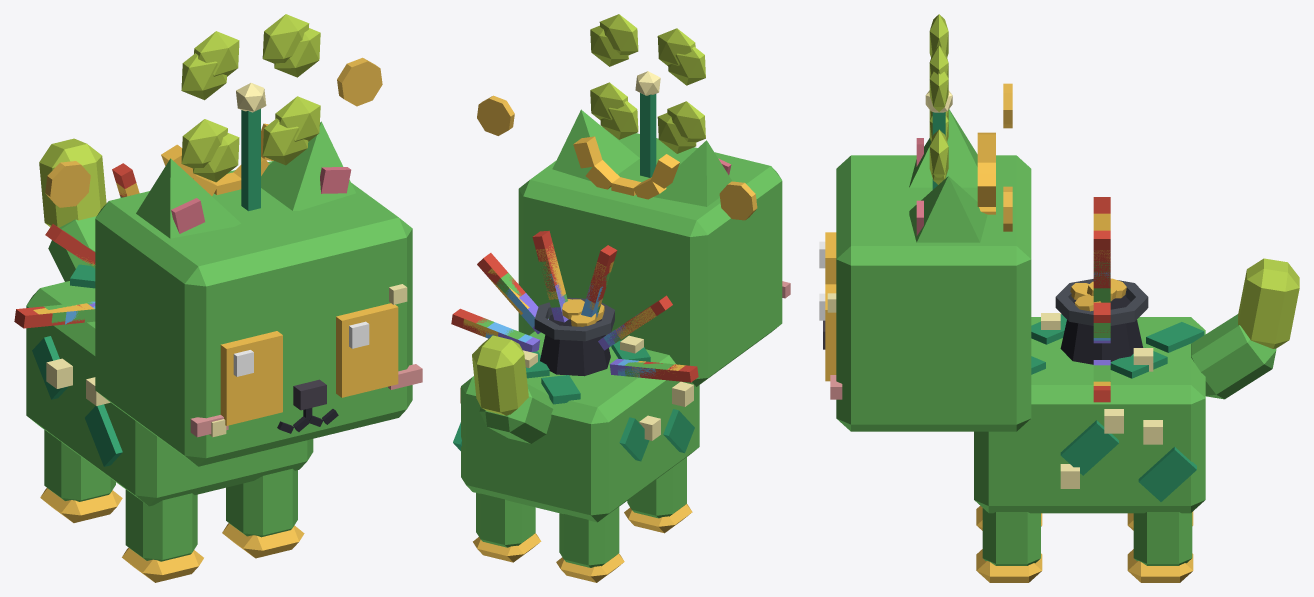
File: CatCafe_Cat_LuckyClover.fbx
The picture shows the model from 3 angles, left to right: view 1: azimuth 30°, elevation 25°; view 2: azimuth 150°, elevation 25°; view 3: azimuth 270°, elevation 25°; orthographic projection. The views are drawn at different scales.
Parts seen in each view (by area): view 1: CatCafe_Cat_LuckyClover_Head, CatCafe_Cat_LuckyClover_Body, CatCafe_Cat_LuckyClover_Glow, CatCafe_Cat_LuckyClover_LegF2, CatCafe_Cat_LuckyClover_LegF1, CatCafe_Cat_LuckyClover_Eye1, CatCafe_Cat_LuckyClover_Eye2, CatCafe_Cat_LuckyClover_Tail, CatCafe_Cat_LuckyClover_EarL, CatCafe_Cat_LuckyClover_LegB2, CatCafe_Cat_LuckyClover_EarR, CatCafe_Cat_LuckyClover_Prop (+1 smaller); view 2: CatCafe_Cat_LuckyClover_Head, CatCafe_Cat_LuckyClover_Body, CatCafe_Cat_LuckyClover_Glow, CatCafe_Cat_LuckyClover_Rainbow_Glow, CatCafe_Cat_LuckyClover_Tail, CatCafe_Cat_LuckyClover_Prop, CatCafe_Cat_LuckyClover_Prop2, CatCafe_Cat_LuckyClover_LegB2, CatCafe_Cat_LuckyClover_LegB1, CatCafe_Cat_LuckyClover_LegF2, CatCafe_Cat_LuckyClover_EarR, CatCafe_Cat_LuckyClover_EarL; view 3: CatCafe_Cat_LuckyClover_Head, CatCafe_Cat_LuckyClover_Body, CatCafe_Cat_LuckyClover_Tail, CatCafe_Cat_LuckyClover_Prop2, CatCafe_Cat_LuckyClover_LegB1, CatCafe_Cat_LuckyClover_LegF1, CatCafe_Cat_LuckyClover_Rainbow_Glow, CatCafe_Cat_LuckyClover_Glow, CatCafe_Cat_LuckyClover_EarL, CatCafe_Cat_LuckyClover_EarR, CatCafe_Cat_LuckyClover_Prop, CatCafe_Cat_LuckyClover_Eye1 (+1 smaller).
Part boxes in pixels (x1,y1,x2,y2): CatCafe_Cat_LuckyClover_Head: (95, 161, 422, 466); CatCafe_Cat_LuckyClover_Body: (26, 264, 313, 506); CatCafe_Cat_LuckyClover_Glow: (45, 14, 382, 207); CatCafe_Cat_LuckyClover_LegF2: (122, 489, 203, 582); CatCafe_Cat_LuckyClover_LegF1: (222, 468, 304, 558); CatCafe_Cat_LuckyClover_Eye1: (336, 303, 398, 397); CatCafe_Cat_LuckyClover_Eye2: (220, 331, 282, 425); CatCafe_Cat_LuckyClover_Tail: (39, 138, 106, 281); CatCafe_Cat_LuckyClover_EarL: (261, 121, 355, 210); CatCafe_Cat_LuckyClover_LegB2: (40, 430, 122, 522); CatCafe_Cat_LuckyClover_EarR: (136, 158, 240, 238); CatCafe_Cat_LuckyClover_Prop: (161, 109, 273, 211); CatCafe_Cat_LuckyClover_Head: (518, 127, 790, 386); CatCafe_Cat_LuckyClover_Body: (453, 331, 699, 522); CatCafe_Cat_LuckyClover_Glow: (477, 14, 757, 220); CatCafe_Cat_LuckyClover_Rainbow_Glow: (451, 230, 698, 382); CatCafe_Cat_LuckyClover_Tail: (472, 335, 553, 443); CatCafe_Cat_LuckyClover_Prop: (573, 93, 679, 199); CatCafe_Cat_LuckyClover_Prop2: (534, 297, 614, 376); CatCafe_Cat_LuckyClover_LegB2: (556, 507, 624, 582); CatCafe_Cat_LuckyClover_LegB1: (473, 493, 541, 562); CatCafe_Cat_LuckyClover_LegF2: (624, 457, 692, 533); CatCafe_Cat_LuckyClover_EarR: (654, 140, 732, 206); CatCafe_Cat_LuckyClover_EarL: (552, 109, 639, 180); CatCafe_Cat_LuckyClover_Head: (823, 155, 1031, 431); CatCafe_Cat_LuckyClover_Body: (974, 313, 1205, 513); CatCafe_Cat_LuckyClover_Tail: (1191, 258, 1299, 399); CatCafe_Cat_LuckyClover_Prop2: (1055, 279, 1148, 364); CatCafe_Cat_LuckyClover_LegB1: (1127, 512, 1193, 582); CatCafe_Cat_LuckyClover_LegF1: (976, 508, 1042, 582); CatCafe_Cat_LuckyClover_Rainbow_Glow: (1070, 197, 1126, 402); CatCafe_Cat_LuckyClover_Glow: (925, 14, 1012, 231); CatCafe_Cat_LuckyClover_EarL: (909, 176, 987, 242); CatCafe_Cat_LuckyClover_EarR: (909, 109, 977, 187); CatCafe_Cat_LuckyClover_Prop: (932, 112, 995, 214); CatCafe_Cat_LuckyClover_Eye1: (819, 284, 836, 381).
Bounding box in the file's own units: 1.46 × 2.36 × 1.97.
Materials: 1 (1 with a texture image).
